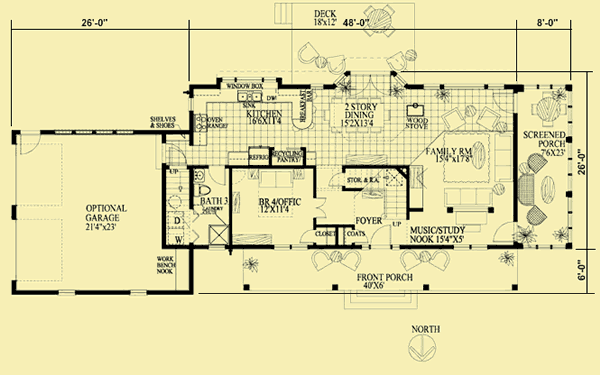dining table: (322, 97, 396, 137)
door: (346, 69, 393, 99), (370, 222, 393, 253), (18, 128, 43, 156), (160, 141, 189, 165), (491, 217, 515, 245), (207, 161, 230, 187), (311, 191, 329, 221), (327, 169, 346, 191), (298, 226, 316, 246)
large sink: (195, 179, 211, 201)
large sofa: (441, 186, 497, 213), (256, 168, 296, 190)
round table: (528, 91, 570, 130), (361, 4, 398, 38)
small sink: (189, 167, 209, 186)
small sofa: (440, 106, 468, 133), (476, 105, 501, 132)
stairs: (383, 167, 409, 226)
twin sink: (236, 88, 266, 104)
windows: (51, 127, 141, 139), (420, 80, 507, 91), (218, 74, 278, 86), (518, 241, 570, 252), (270, 240, 312, 253), (518, 82, 567, 93), (450, 240, 491, 253), (54, 287, 81, 299), (127, 288, 152, 298)
